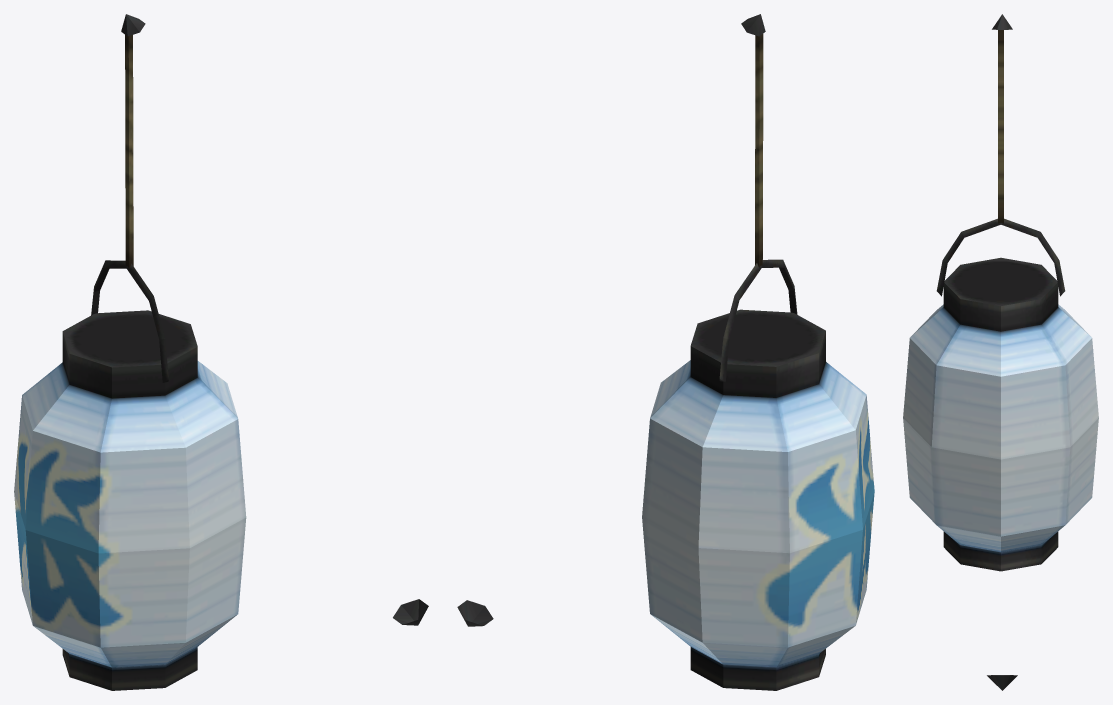
File: Penguin_hallowLantern.obj
3 views of the same model, side by side, from view 1: azimuth 30°, elevation 25°; view 2: azimuth 150°, elevation 25°; view 3: azimuth 270°, elevation 25° (orthographic). The views are drawn at different scales.
Parts seen in each view (by area): view 1: Penguin_hallowLantern_tri; view 2: Penguin_hallowLantern_tri; view 3: Penguin_hallowLantern_tri.
Boxes of the visible parts, bbox=[...] form: Penguin_hallowLantern_tri: bbox=[14, 14, 428, 690]; Penguin_hallowLantern_tri: bbox=[457, 14, 874, 690]; Penguin_hallowLantern_tri: bbox=[903, 14, 1098, 690].
Size of the model in its own units: 0.4361 by 0.7129 by 0.226.
Materials: 1 (1 with a texture image).
